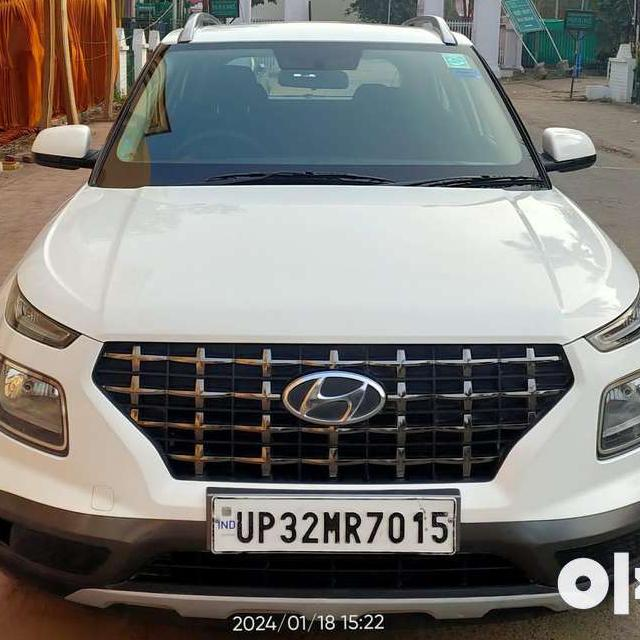Indian_Number_Plate: (205, 495, 461, 555)
